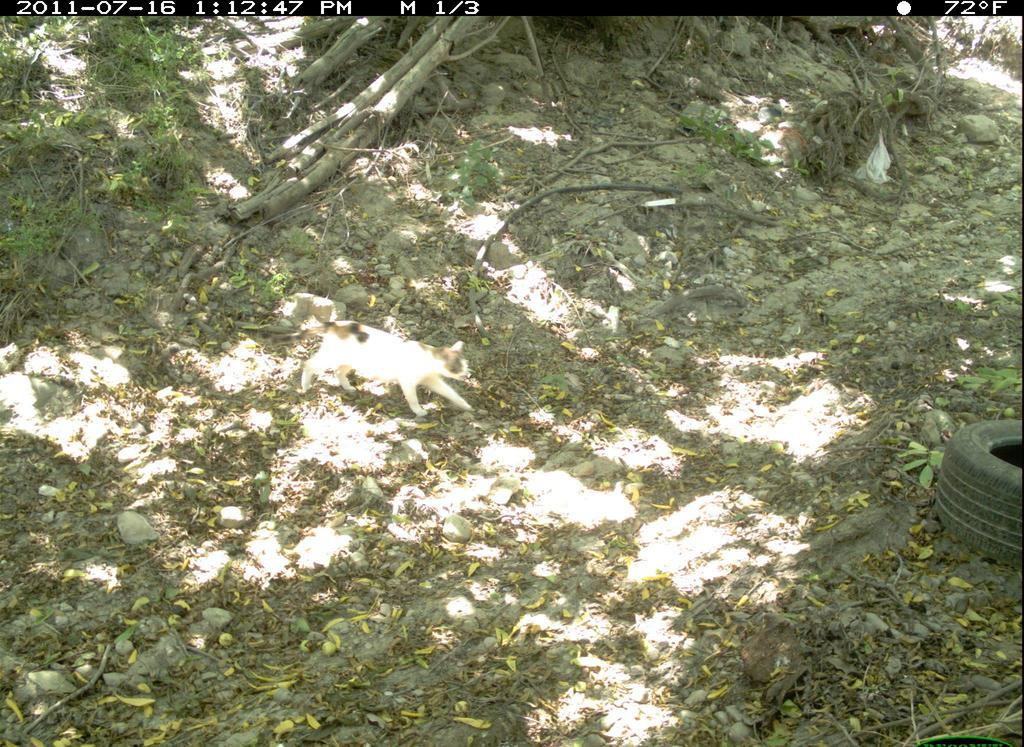cat: (276, 301, 484, 428)
